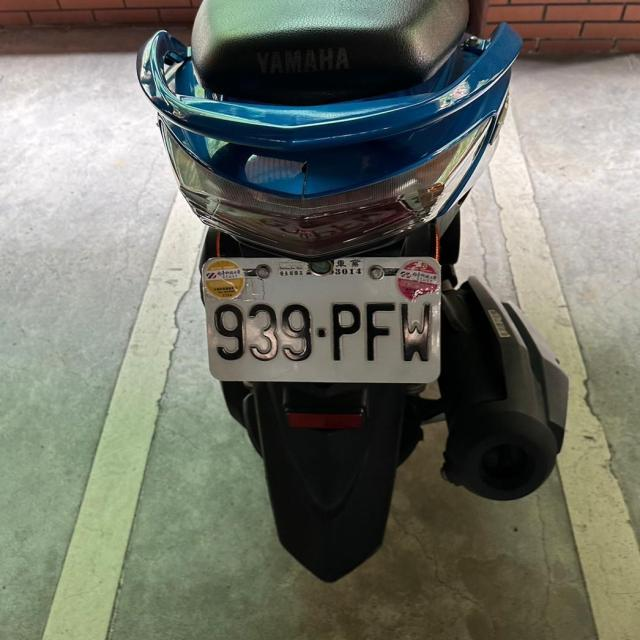W: (195, 243, 444, 388)
